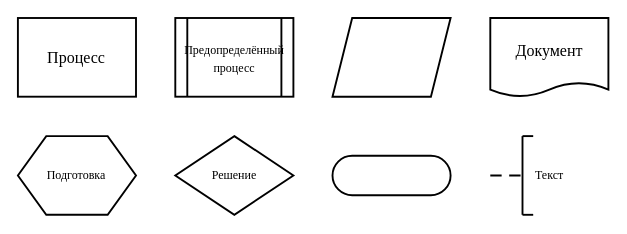
Some shapes in this 627 by 234 pixel diagram are drawn without their labels. Here are the shapes that lost their labels. From the top down, the centre of each, then its label:
At [391,57]: "Данные".
At [391,175]: "Терминатор".
